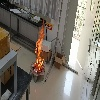fire: (34, 19, 45, 73)
